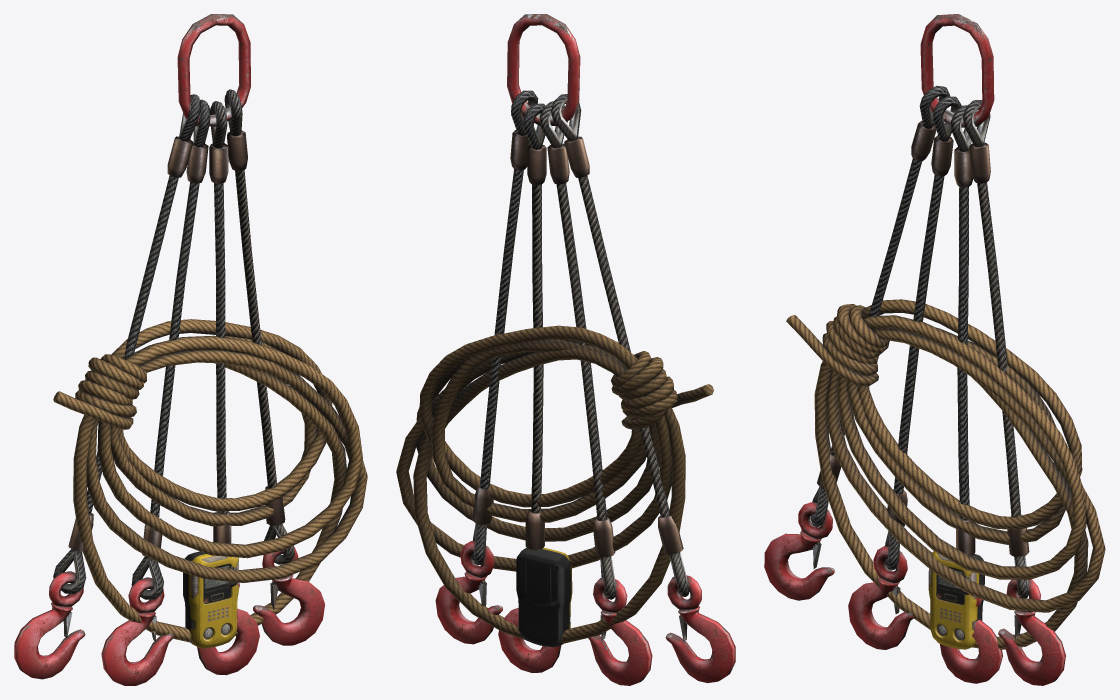
File: S1_SetA.fbx
3 renders of one model, left to right at view 1: azimuth 30°, elevation 25°; view 2: azimuth 150°, elevation 25°; view 3: azimuth 330°, elevation 25°, orthographic.
Visible parts, largest first — view 1: rope_Geo, sling01_Geo, honeywell_Geo; view 2: sling01_Geo, rope_Geo, honeywell_Geo; view 3: rope_Geo, sling01_Geo, honeywell_Geo.
Part boxes in pixels (left/top/right/bottom): rope_Geo: left=53, top=319, right=367, bottom=642; sling01_Geo: left=14, top=14, right=324, bottom=685; honeywell_Geo: left=183, top=551, right=238, bottom=648; sling01_Geo: left=435, top=14, right=735, bottom=685; rope_Geo: left=396, top=325, right=713, bottom=643; honeywell_Geo: left=516, top=547, right=572, bottom=647; rope_Geo: left=786, top=299, right=1105, bottom=649; sling01_Geo: left=764, top=14, right=1065, bottom=685; honeywell_Geo: left=928, top=551, right=984, bottom=649.
Size of the model in its own units: 100 by 184 by 14.61.
Materials: 1 (1 with a texture image).
